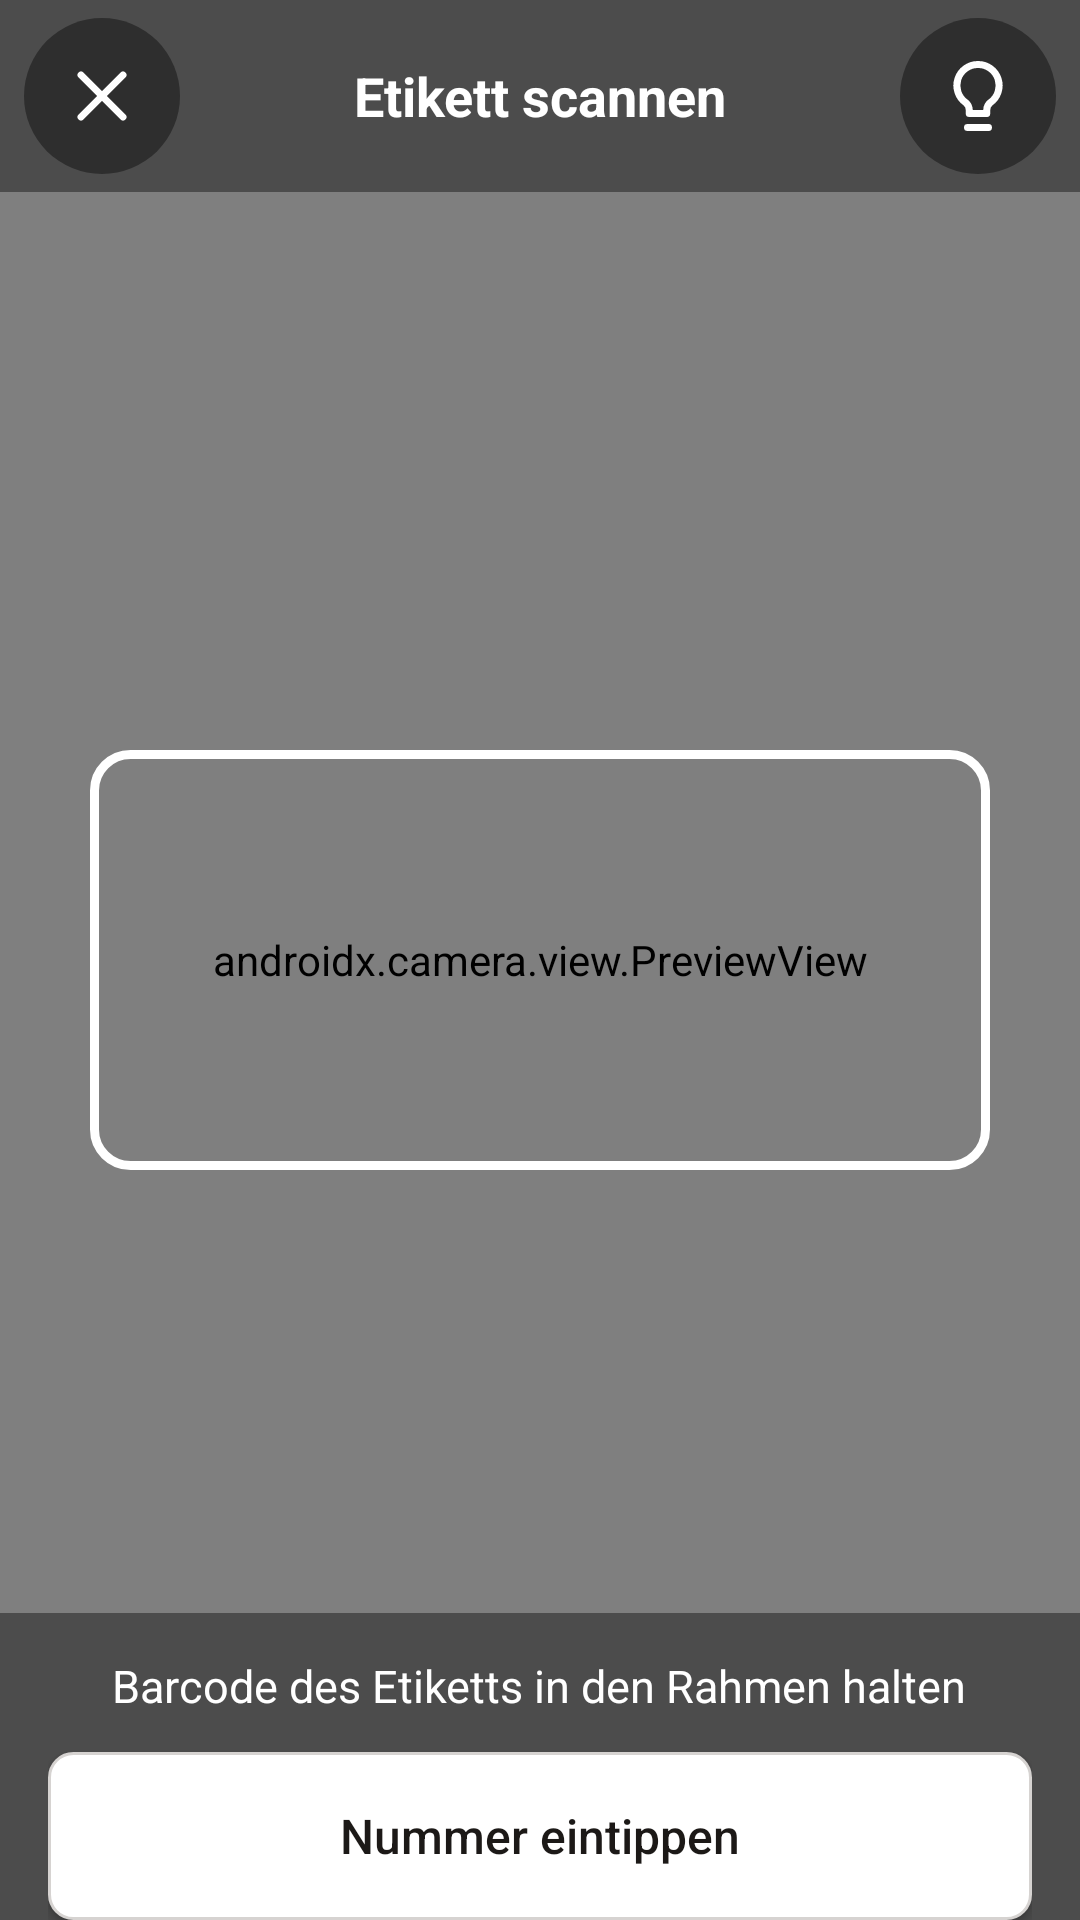

Icon click points for this 1080 x 1920 phone screenshot, format (x=x, y=y):
Kamera schließen: (x=102, y=96)
Lampe: (x=978, y=96)
